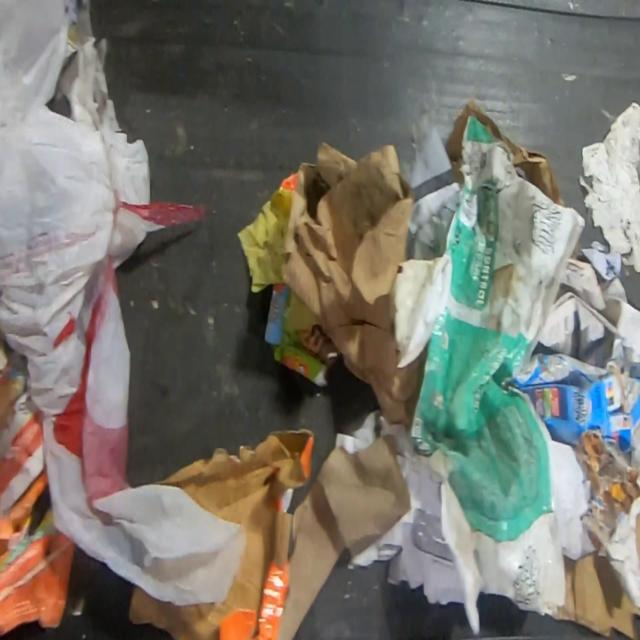cardboard: (128, 427, 411, 639), (283, 137, 422, 427), (503, 349, 639, 484), (444, 96, 567, 207), (548, 511, 640, 640), (263, 273, 328, 388)
metal: (280, 162, 302, 192)
soft_plastic: (0, 0, 246, 607)
